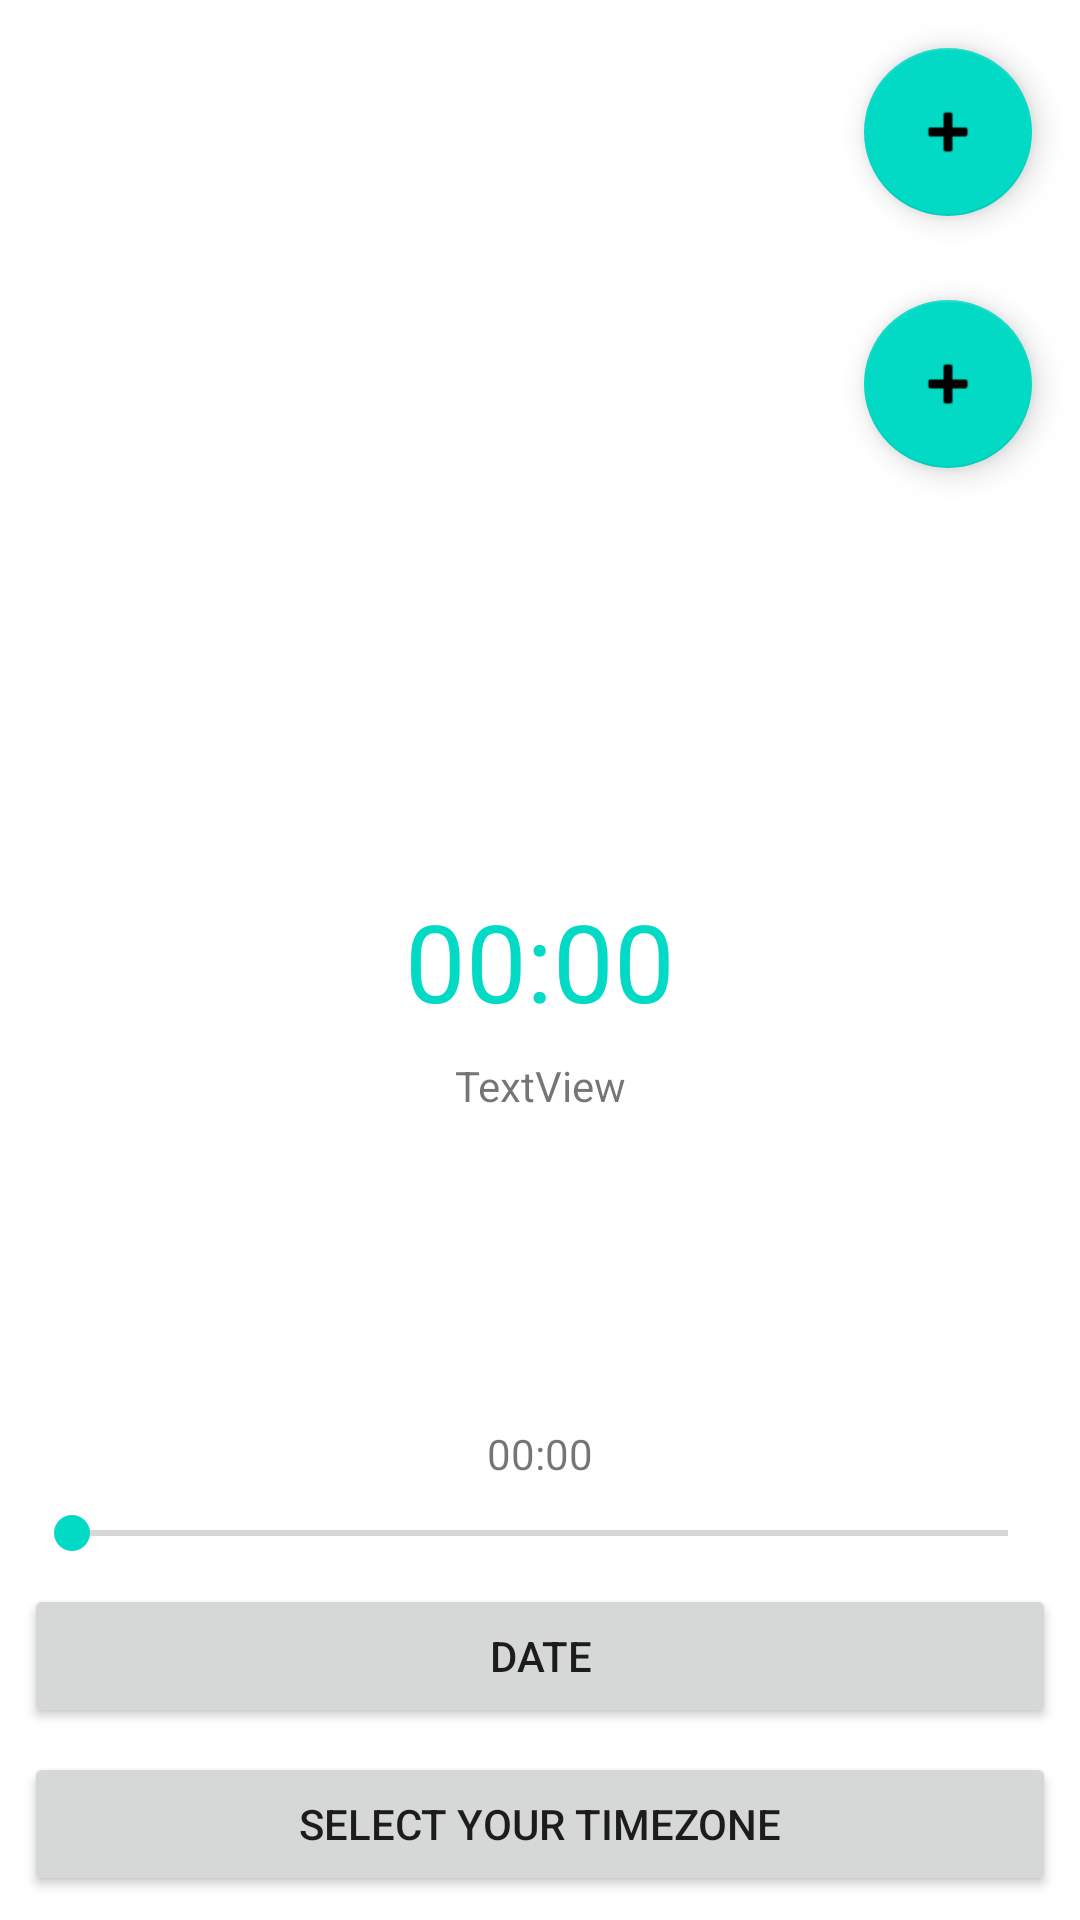

Named icons in this screenshot (1080 × 1920) and their centers, point (x, y):
add: point (948, 132), point (948, 384)
